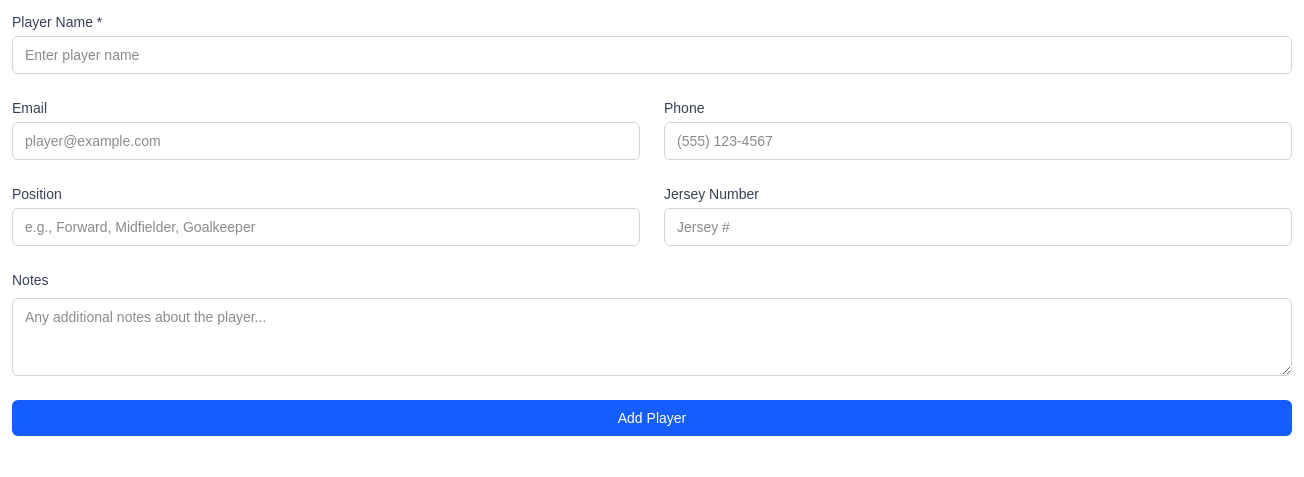
Scenario: PlayerForm › validates required player name field
The width and height of the screenshot is (1304, 477).
Click the button "Add Player" at (652, 418), box [12,400,1292,436]
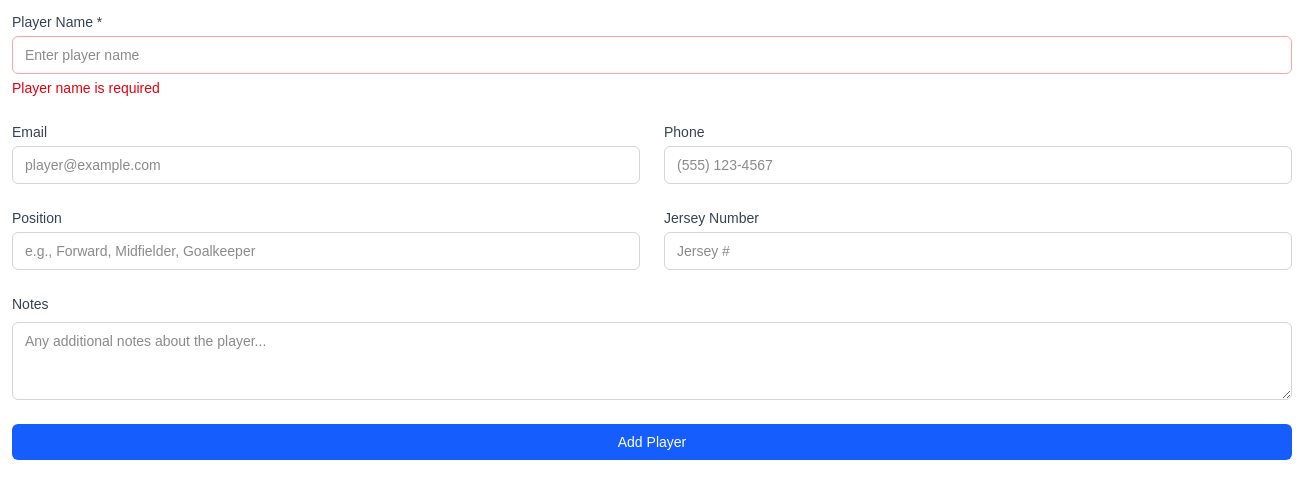
Check: the text "Player name is required" is shown, box [12,80,160,96]
